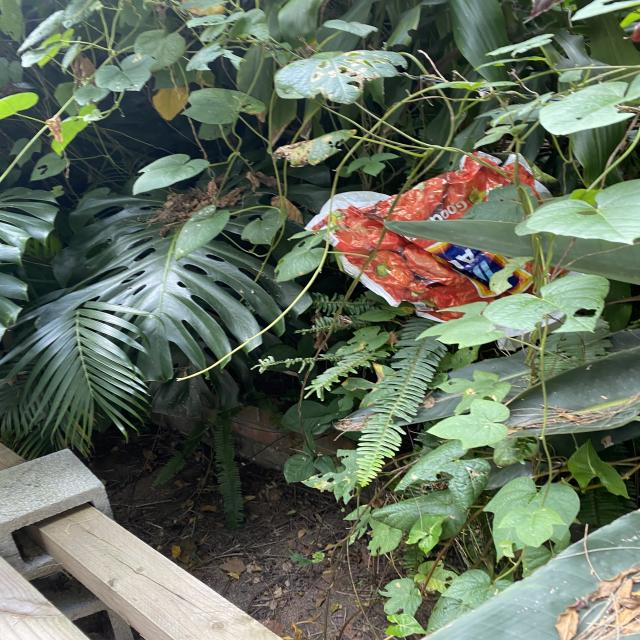bag: (316, 148, 570, 330)
